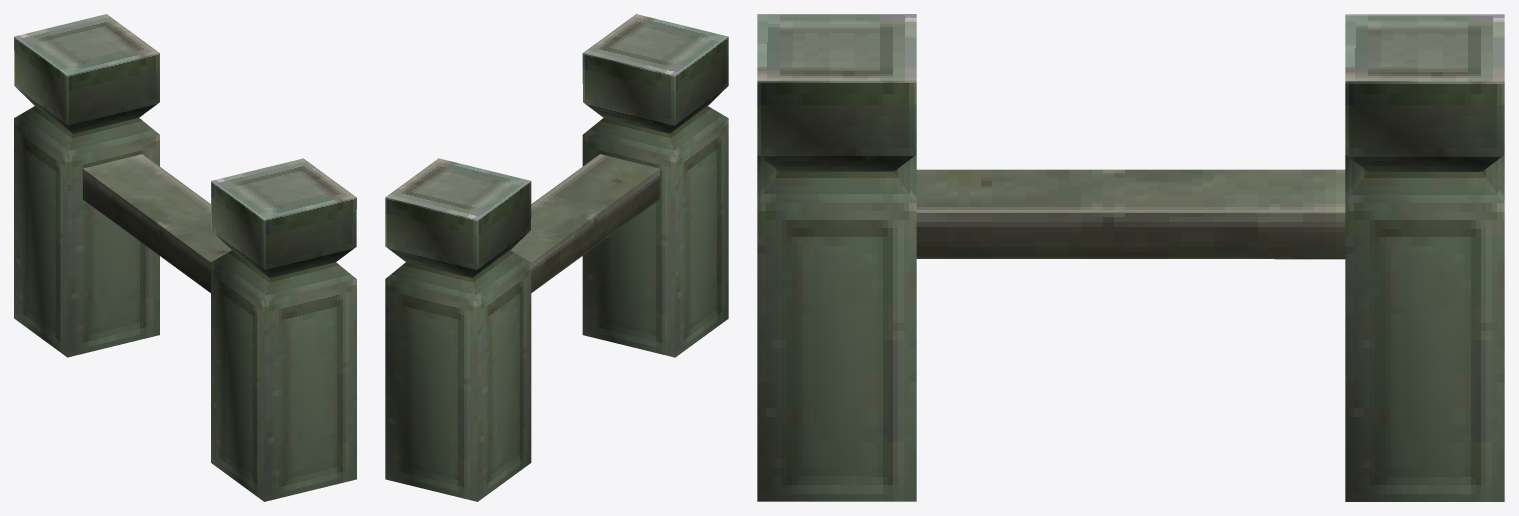
The model's file is h5_shizhalan.FBX.
3 views of the same model, side by side, from view 1: azimuth 30°, elevation 25°; view 2: azimuth 150°, elevation 25°; view 3: azimuth 270°, elevation 25° (orthographic). The views are drawn at different scales.
Visible parts, largest first — view 1: h5_shizhalan; view 2: h5_shizhalan; view 3: h5_shizhalan.
Part boxes in pixels (<box>): h5_shizhalan: <box>14,14,356,501</box>; h5_shizhalan: <box>385,14,728,501</box>; h5_shizhalan: <box>757,14,1504,501</box>.
Size of the model in its own units: 0.5938 by 1.72 by 2.78.
1 material, 1 textured.
